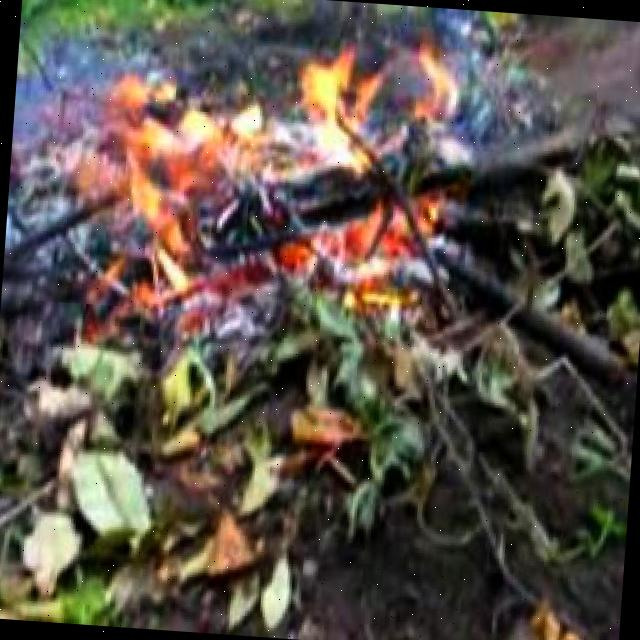fire: (78, 31, 463, 320)
